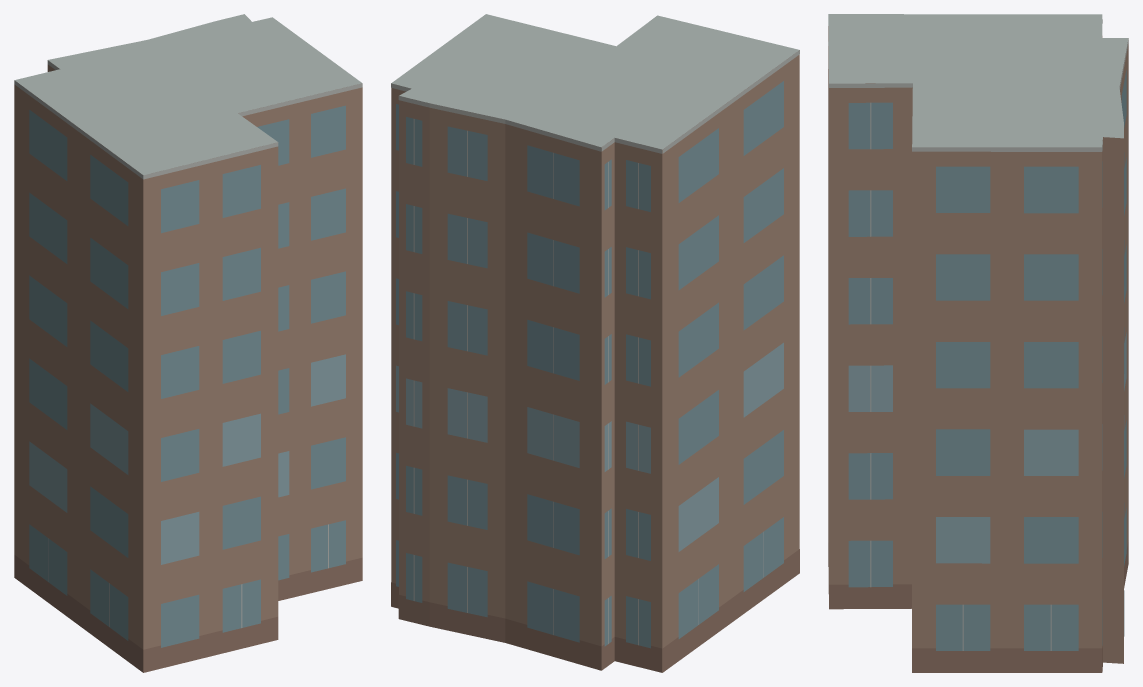
File: survey-upis-32839439.glb
3 views of the same model, side by side, from view 1: azimuth 30°, elevation 25°; view 2: azimuth 150°, elevation 25°; view 3: azimuth 270°, elevation 25° (orthographic). The views are drawn at different scales.
Visible parts, largest first — view 1: survey-upis-32839439.tmp; view 2: survey-upis-32839439.tmp; view 3: survey-upis-32839439.tmp.
Boxes of the visible parts, box(x1,y1,x2,y2) form: survey-upis-32839439.tmp: box(14, 14, 362, 672); survey-upis-32839439.tmp: box(391, 14, 799, 672); survey-upis-32839439.tmp: box(828, 14, 1128, 672).
Bounding box in the file's own units: 15.7 × 28.82 × 14.93.
